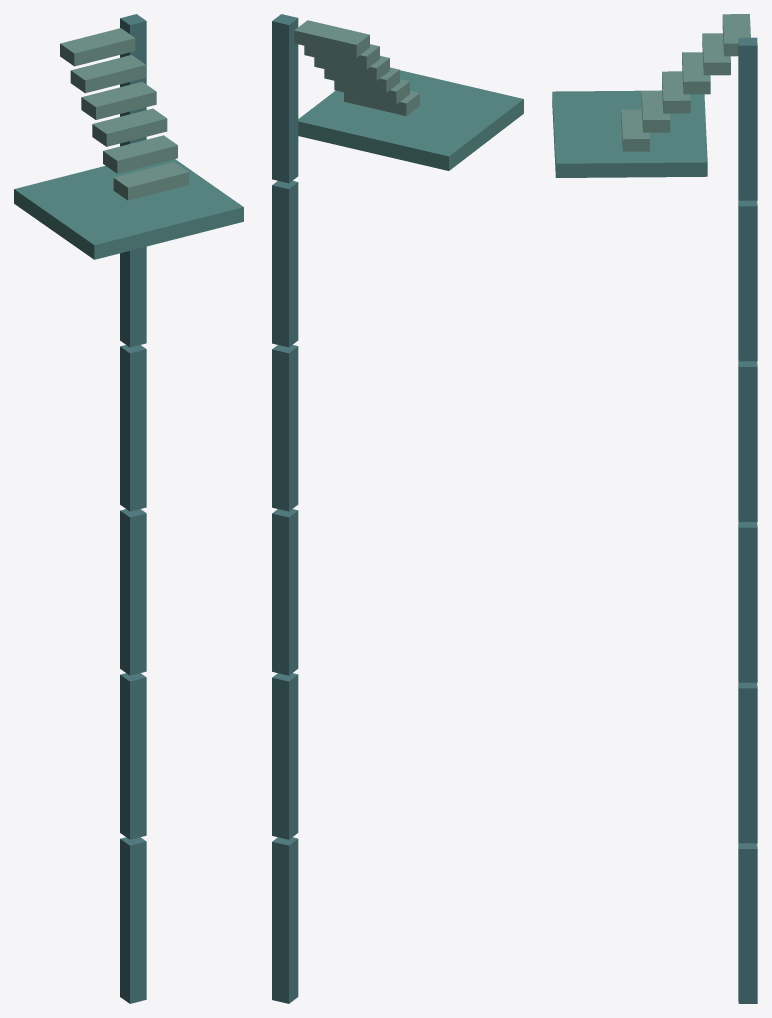
Rendered from detail.glb.
3 views of the same model, side by side, from view 1: azimuth 30°, elevation 25°; view 2: azimuth 150°, elevation 25°; view 3: azimuth 270°, elevation 25° (orthographic). The views are drawn at different scales.
Parts seen in each view (by area): view 1: detail; view 2: detail; view 3: detail.
Boxes of the visible parts, x1,y1,x2,y2 form: detail: (14, 14, 243, 1003); detail: (272, 14, 523, 1003); detail: (552, 14, 757, 1003).
Bounding box in the file's own units: 2.75 × 16.7 × 3.24.
